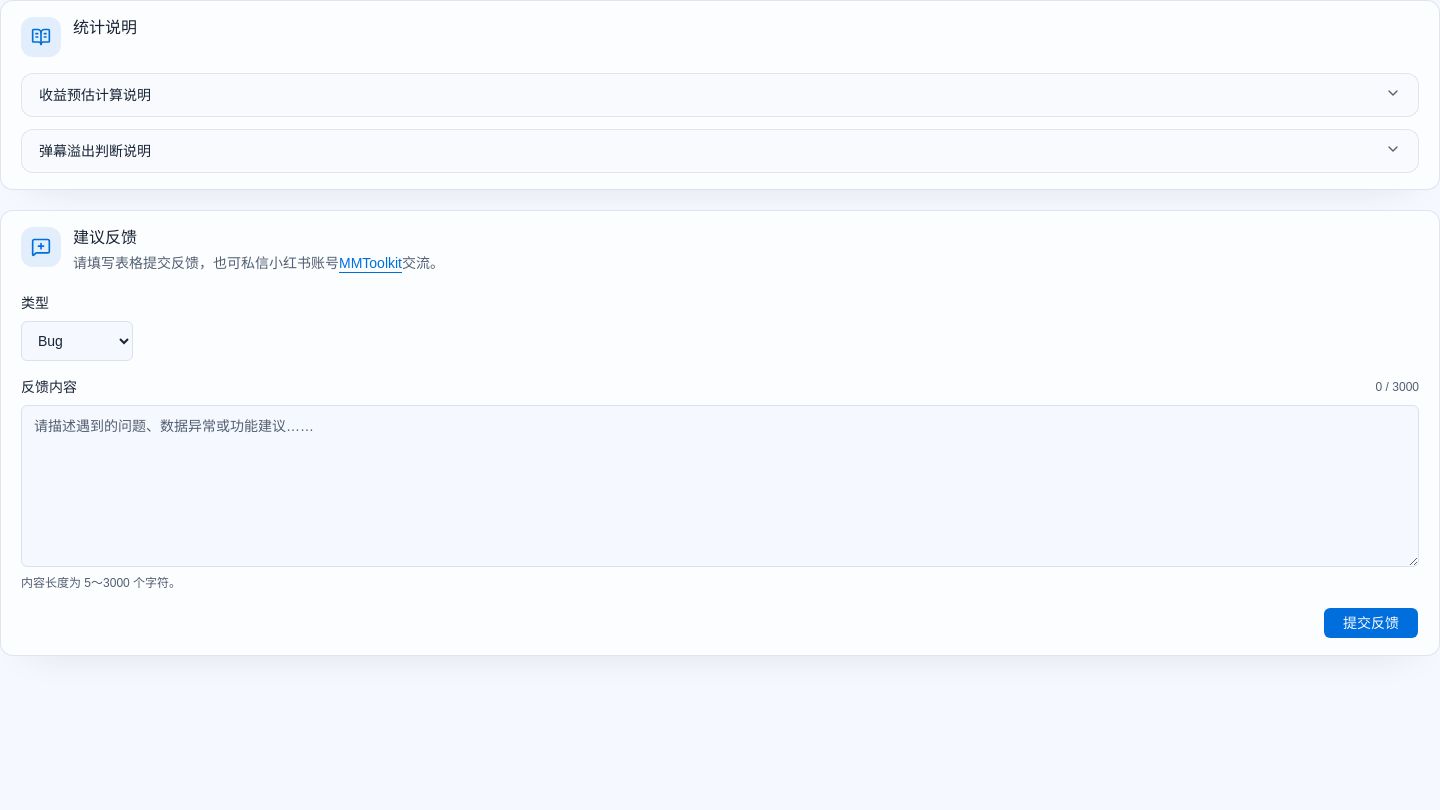
empty feedback cannot be submitted
Click the button "提交反馈": [1371, 623] box [1323,607,1419,639]
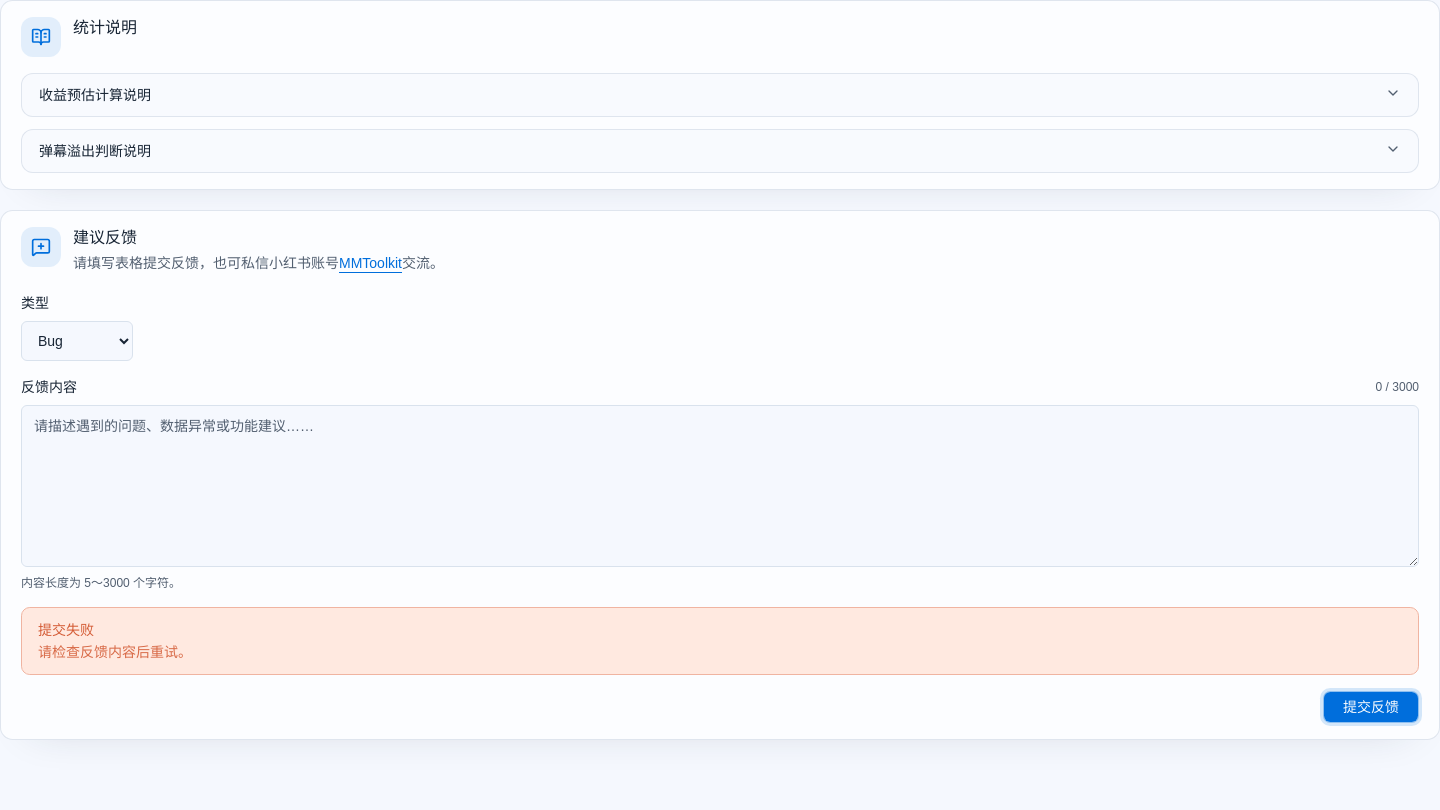
Expected: the text "请检查反馈内容后重试。" is shown, [38,644,192,660]
